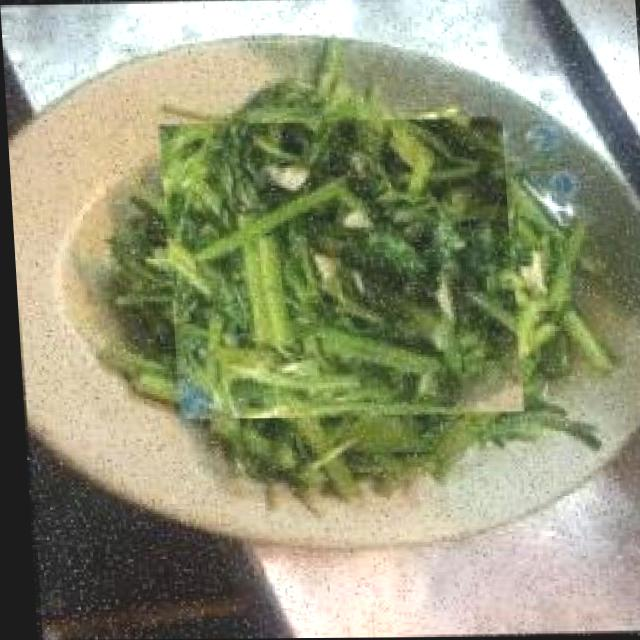water_spinach: (156, 117, 520, 422)
